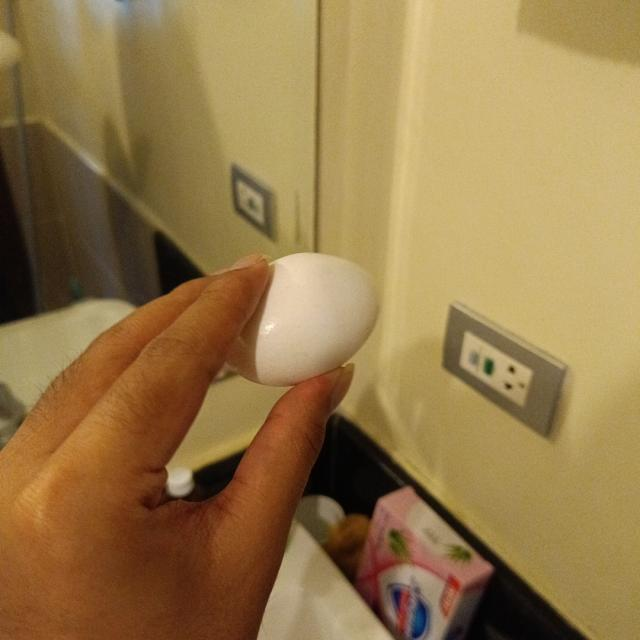egg: (226, 253, 379, 384)
